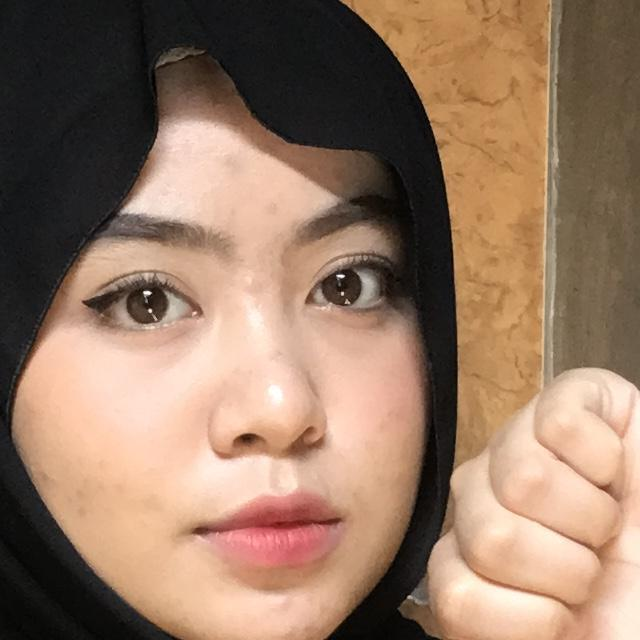sedih: (280, 326, 640, 640)
